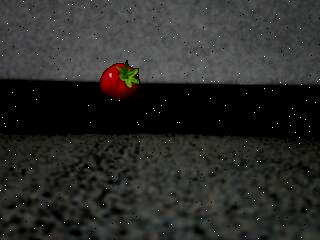Tomato: (98, 59, 142, 105)
